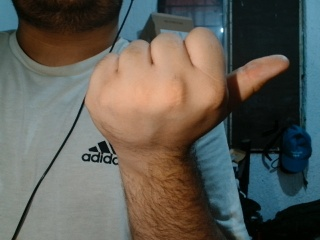Izquierda: (83, 21, 301, 152)
